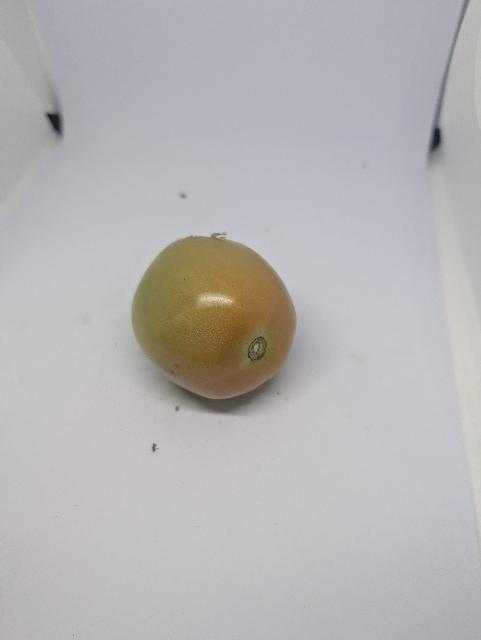breaker: (132, 234, 296, 399)
